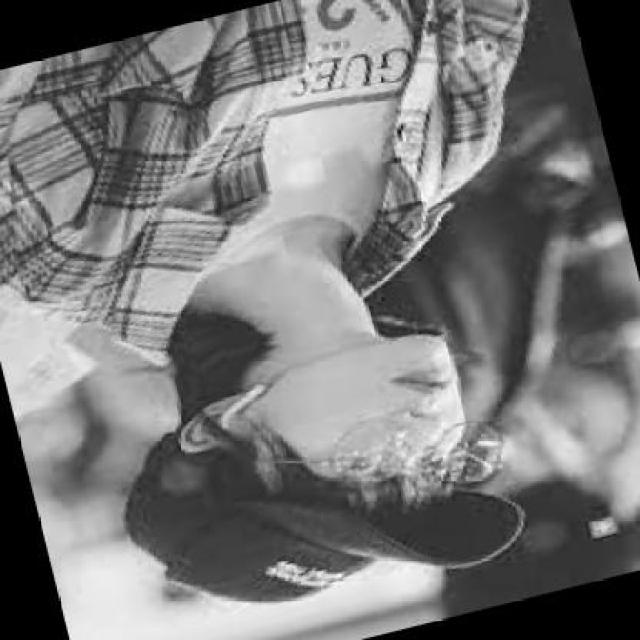earphone: (214, 361, 268, 446)
